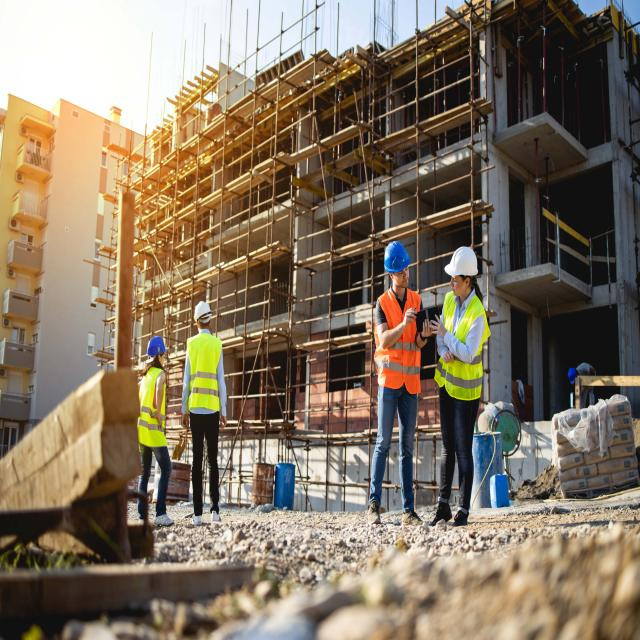helmet: (438, 231, 485, 300), (376, 230, 417, 289), (145, 330, 171, 367), (190, 294, 215, 327)
shoes: (360, 492, 391, 539), (394, 503, 432, 532), (151, 509, 187, 532), (427, 493, 450, 528), (450, 507, 479, 534), (208, 509, 228, 536), (191, 508, 209, 533), (136, 513, 154, 530)
vest: (429, 271, 494, 414), (369, 286, 430, 410), (125, 356, 176, 460), (179, 324, 229, 426)
